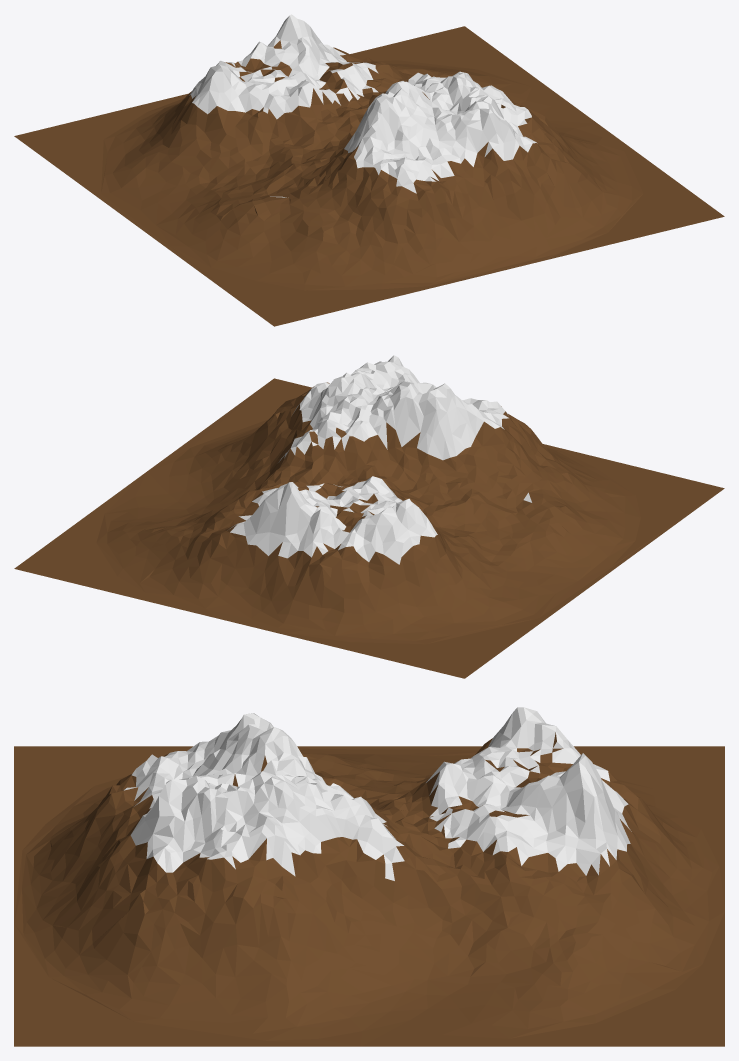
Rendered from Góry.fbx.
3 renders of one model, top to bottom at view 1: azimuth 30°, elevation 25°; view 2: azimuth 150°, elevation 25°; view 3: azimuth 270°, elevation 25°, orthographic. The views are drawn at different scales.
Parts seen in each view (by area): view 1: Landscape; view 2: Landscape; view 3: Landscape.
Part boxes in pixels (x1=…): Landscape: x1=14, y1=14, x2=724, y2=326; Landscape: x1=14, y1=355, x2=724, y2=678; Landscape: x1=14, y1=707, x2=724, y2=1046.
Bounding box in the file's own units: 200 × 51.32 × 200.
